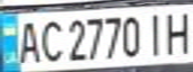0: (121, 11, 145, 58)
2: (63, 15, 87, 62)
7: (84, 14, 106, 61), (103, 12, 124, 61)
A: (12, 17, 42, 64)
C: (36, 16, 66, 64)
H: (160, 7, 193, 55)
I: (142, 9, 169, 57)
